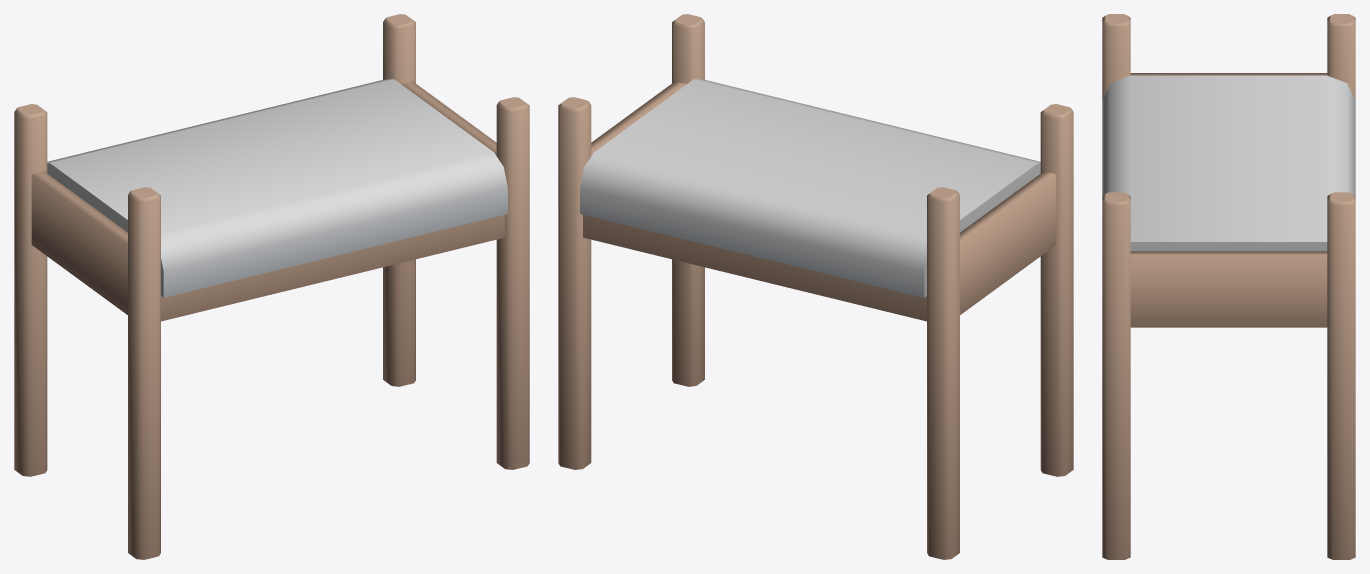
Rendered from bed-loft.glb.
The picture shows the model from 3 angles, left to right: view 1: azimuth 30°, elevation 25°; view 2: azimuth 150°, elevation 25°; view 3: azimuth 270°, elevation 25°; orthographic projection.
Visible parts, largest first — view 1: bed-loft; view 2: bed-loft; view 3: bed-loft.
Boxes of the visible parts, x1,y1,x2,y2 form: bed-loft: (14,14,529,559); bed-loft: (558,14,1073,559); bed-loft: (1102,14,1355,559).
Size of the model in its own units: 1.6 by 1.4 by 0.9.
